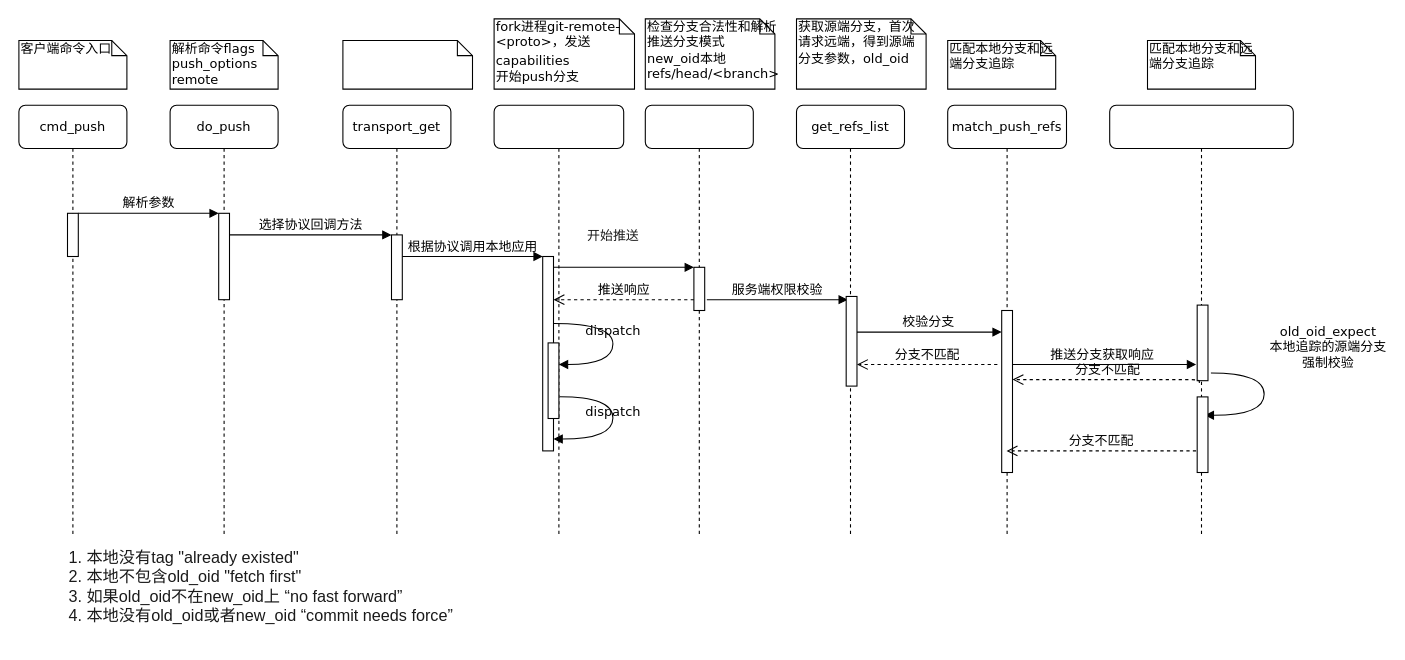
Some shapes in this 1405 by 660 pixel diagram are drawn without their labels. Here are the shapes that lost their labels. From the top down, the centre of each, then its label:
At point (407, 64): "根据remote选择客户端方法，http(s)/ssh/git/file".
At point (558, 320): "push_with_options".
At point (698, 320): "transport_push".
At point (1201, 320): "set_ref_status_for_push".
